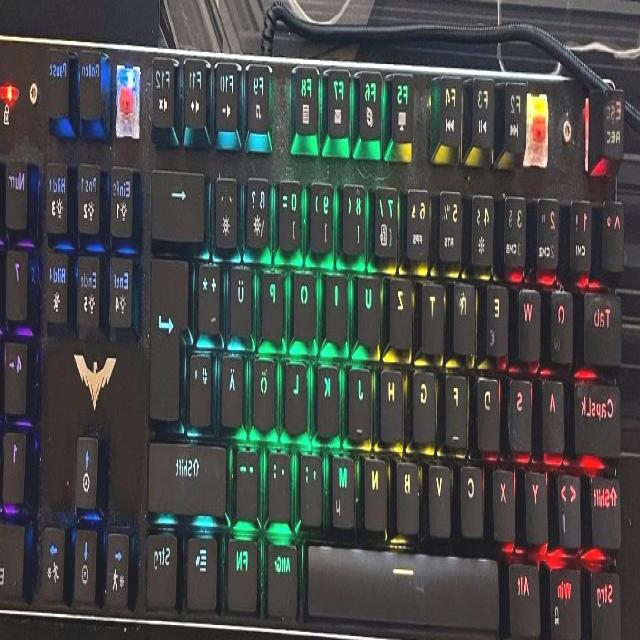0: (279, 176, 303, 252)
1: (571, 192, 595, 271)
2: (538, 191, 562, 270)
3: (505, 188, 529, 271)
4: (473, 187, 497, 267)
5: (440, 184, 465, 264)
6: (407, 182, 432, 262)
7: (376, 180, 400, 259)
8: (344, 180, 368, 255)
9: (311, 176, 335, 255)
a: (543, 371, 567, 451)
accent: (217, 169, 241, 247)
ae: (222, 349, 246, 424)
alt-left: (510, 554, 543, 636)
altgr-right: (268, 537, 300, 617)
b: (398, 454, 422, 530)
c: (462, 458, 486, 534)
caret: (603, 196, 627, 268)
comma: (301, 448, 325, 523)
d: (478, 369, 501, 448)
del: (152, 162, 207, 238)
e: (488, 277, 512, 353)
enter: (151, 249, 191, 421)
f: (447, 364, 469, 443)
g: (414, 361, 438, 440)
h: (382, 361, 405, 439)
hash: (191, 348, 214, 424)
i: (327, 269, 350, 341)
j: (350, 361, 374, 436)
k: (318, 358, 342, 436)
keyboard: (0, 28, 633, 640)
l: (286, 356, 310, 431)
less: (560, 466, 584, 544)
m: (333, 449, 357, 527)
minus: (238, 443, 262, 518)
n: (365, 451, 389, 527)
o: (295, 266, 319, 340)
oe: (255, 351, 278, 429)
p: (263, 266, 287, 338)
plus: (200, 256, 224, 332)
point: (270, 446, 293, 518)
q: (552, 285, 576, 361)
r: (454, 275, 478, 351)
s: (510, 369, 534, 449)
shift-left: (592, 470, 624, 545)
shift-lock: (575, 372, 623, 452)
shift-right: (149, 436, 229, 512)
space: (308, 542, 503, 629)
ss: (248, 173, 272, 251)
strg-left: (592, 563, 624, 640)
strg-right: (147, 526, 181, 608)
t: (423, 274, 446, 349)
tab: (585, 286, 625, 361)
u: (359, 270, 383, 346)
ue: (231, 259, 255, 338)
v: (430, 456, 453, 531)
w: (519, 281, 543, 359)
x: (494, 461, 518, 537)
y: (526, 463, 550, 539)
z: (391, 270, 414, 345)
